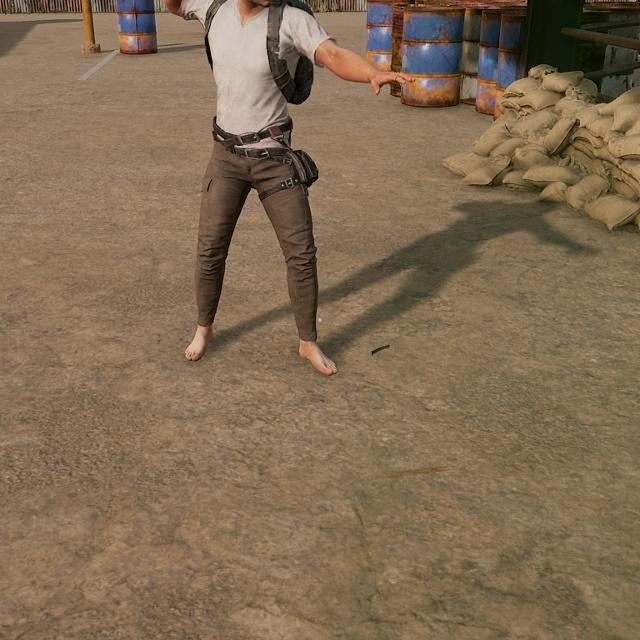people: (182, 0, 357, 372)
